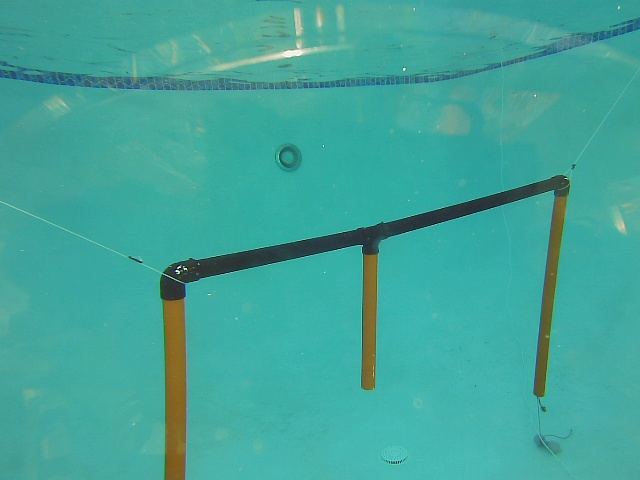Gate: (525, 189, 572, 404), (158, 293, 190, 480), (358, 245, 379, 394)
